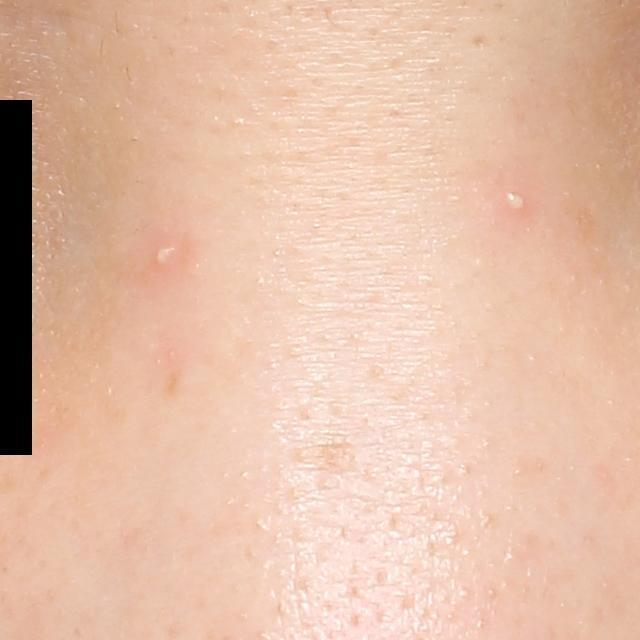pustule: (488, 179, 541, 220), (149, 242, 184, 269)
